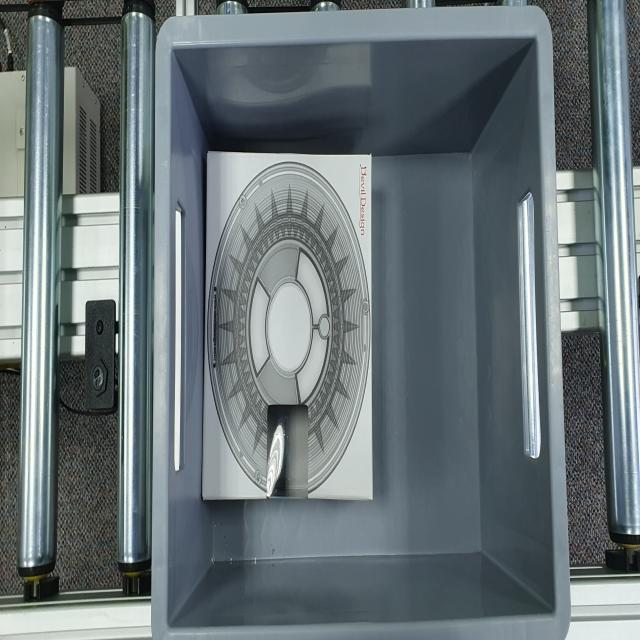box: (201, 146, 375, 501)
